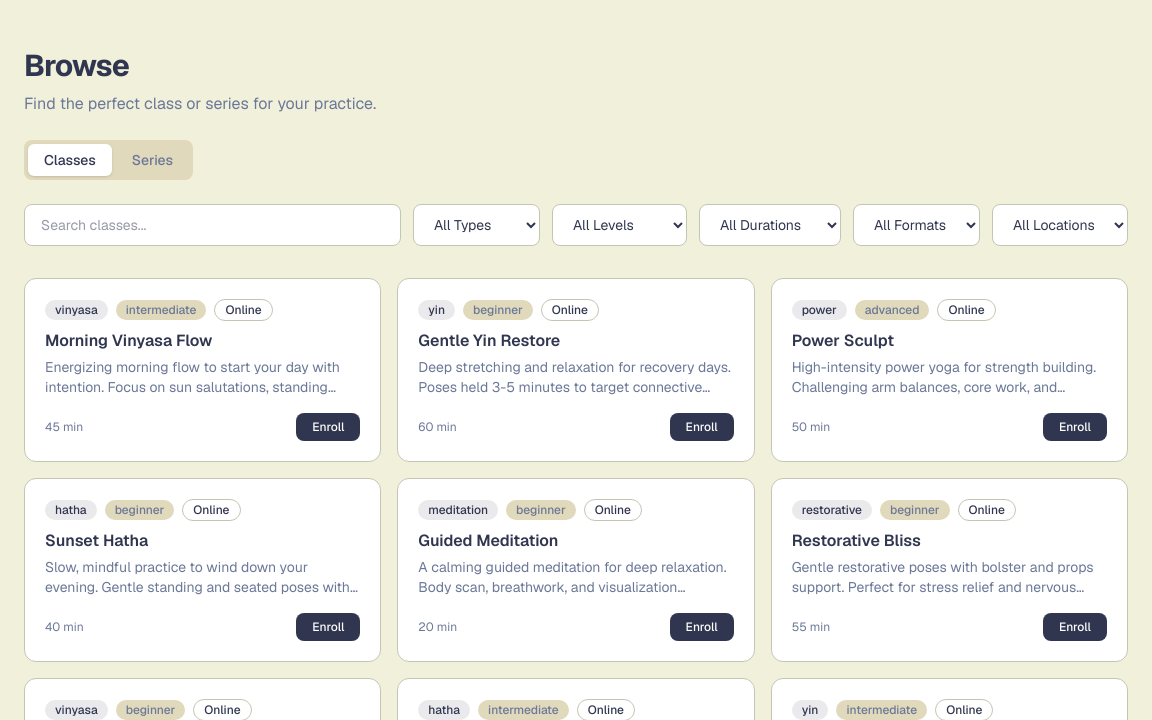
it: Browse classes page › filters classes by search
Expected: the heading "Morning Vinyasa Flow" is shown, [45, 330, 212, 351]
In the field with placeholder "Search classes...": (212, 225) [24, 204, 401, 246], type "vinyasa"
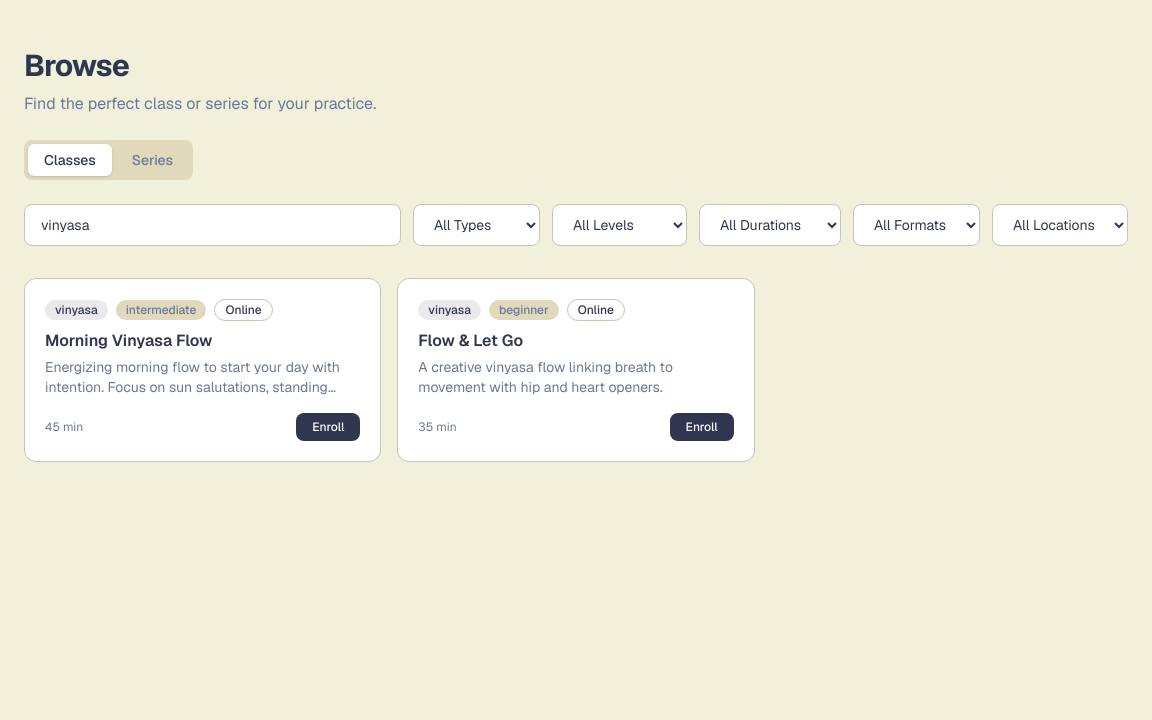
Expected: the heading "Morning Vinyasa Flow" is shown, [45, 330, 212, 351]
Expected: the link "Power Sculpt" is gone
